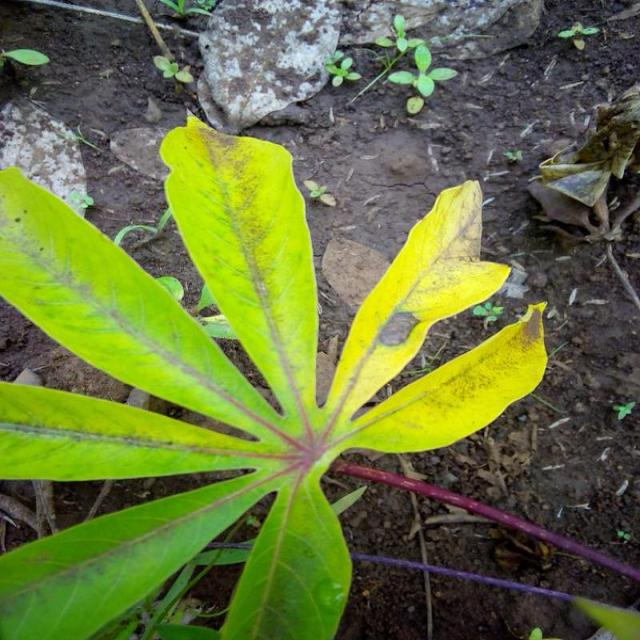cassava leaf: (2, 113, 551, 638), (159, 111, 321, 422)
